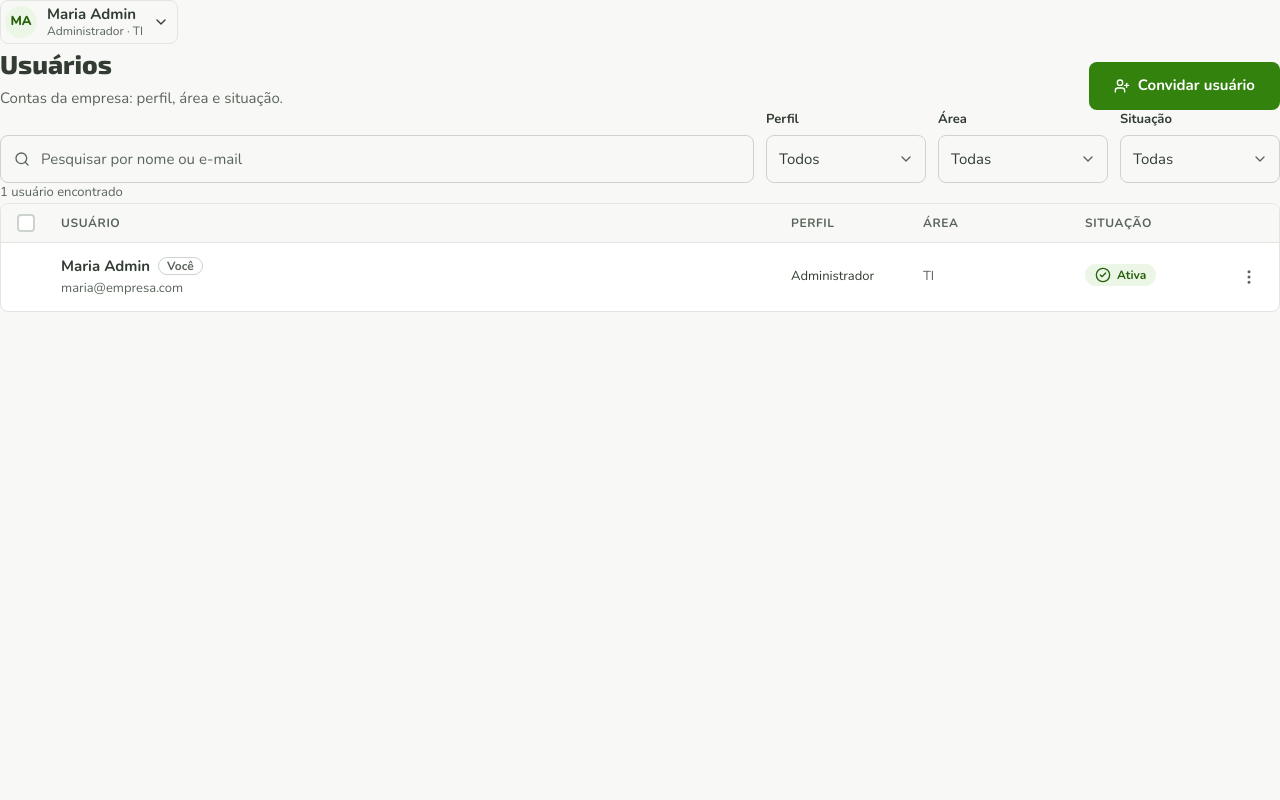
Test case: editing the own account › updates the name shown in the header
The image size is (1280, 800).
Click the button named "Ações de Maria Admin": (1249, 276) [1227,254,1271,298]
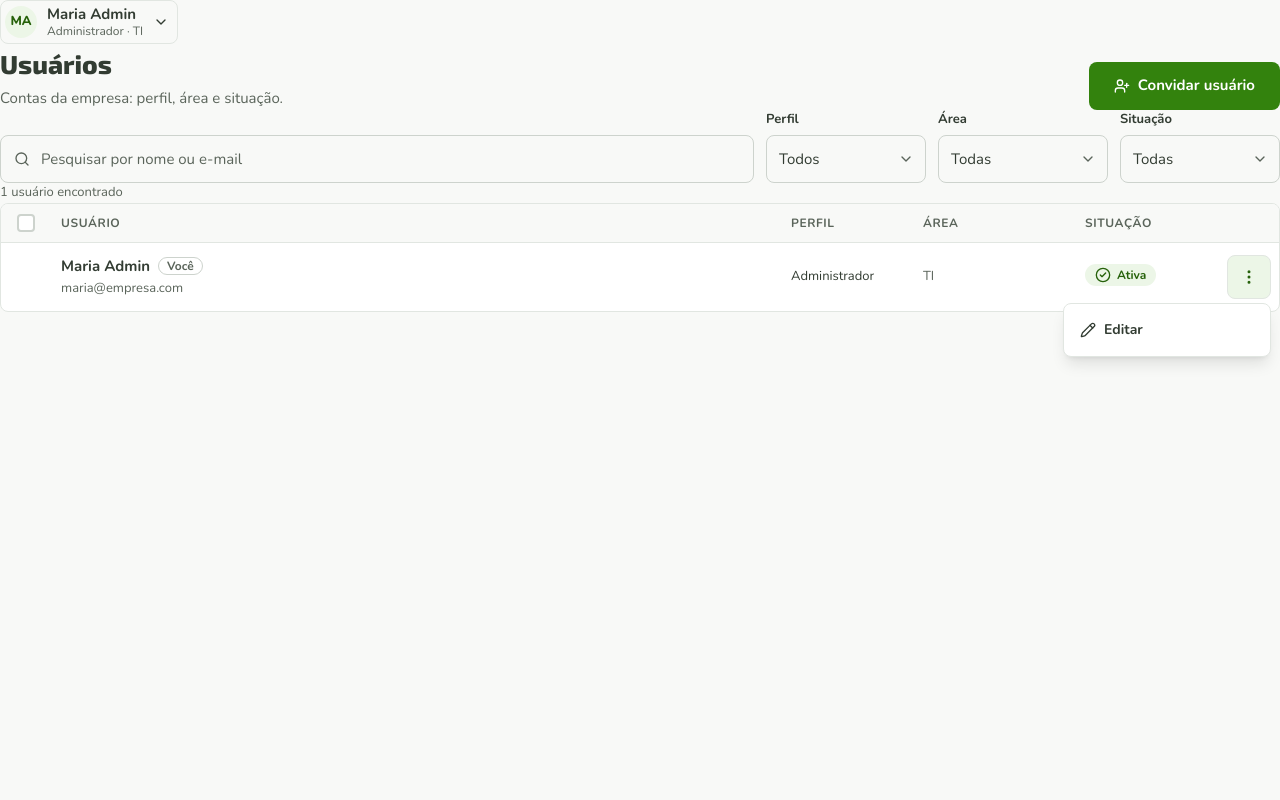
Click the menu item "Editar": (1111, 330) [1080,320,1143,339]
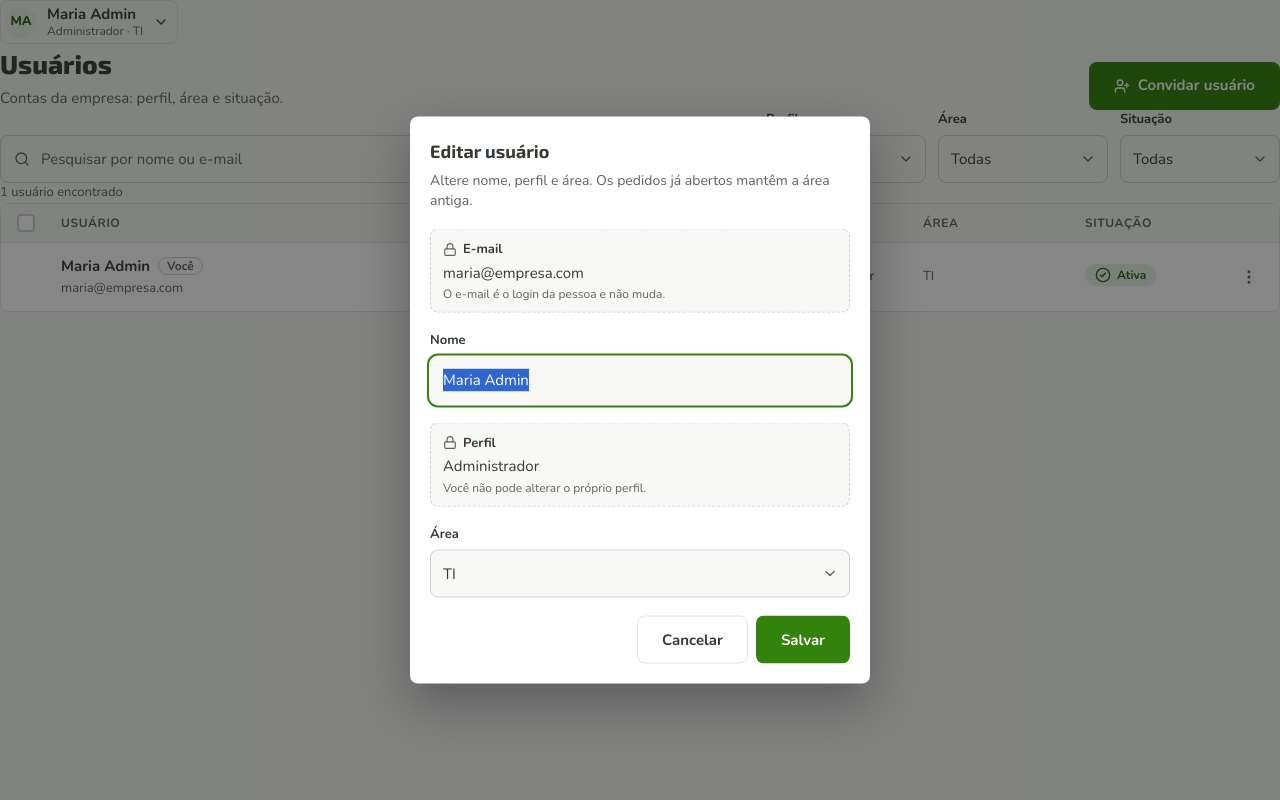
Replace the text in the field labelled "Nome" with "Maria Souza": (640, 380) [430,356,850,404]
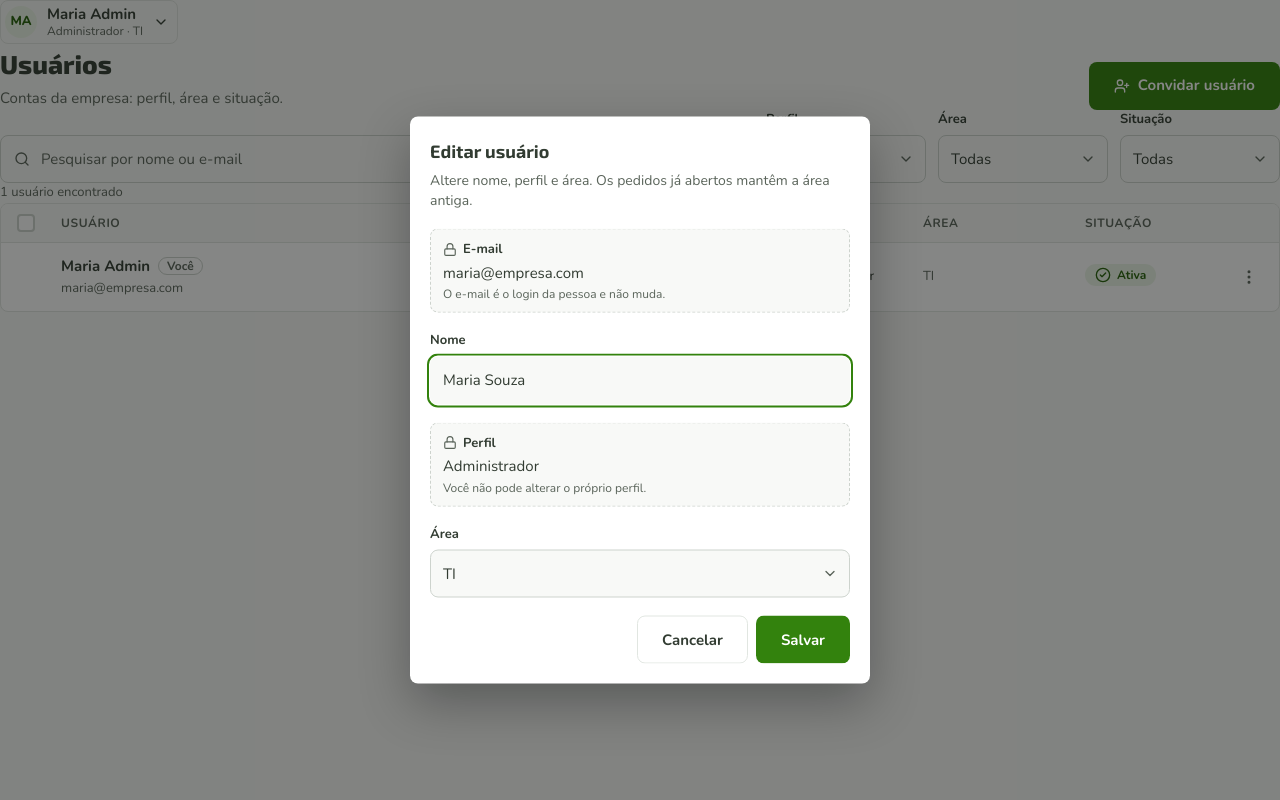
Click the button "Salvar": (803, 640) [756,616,850,664]
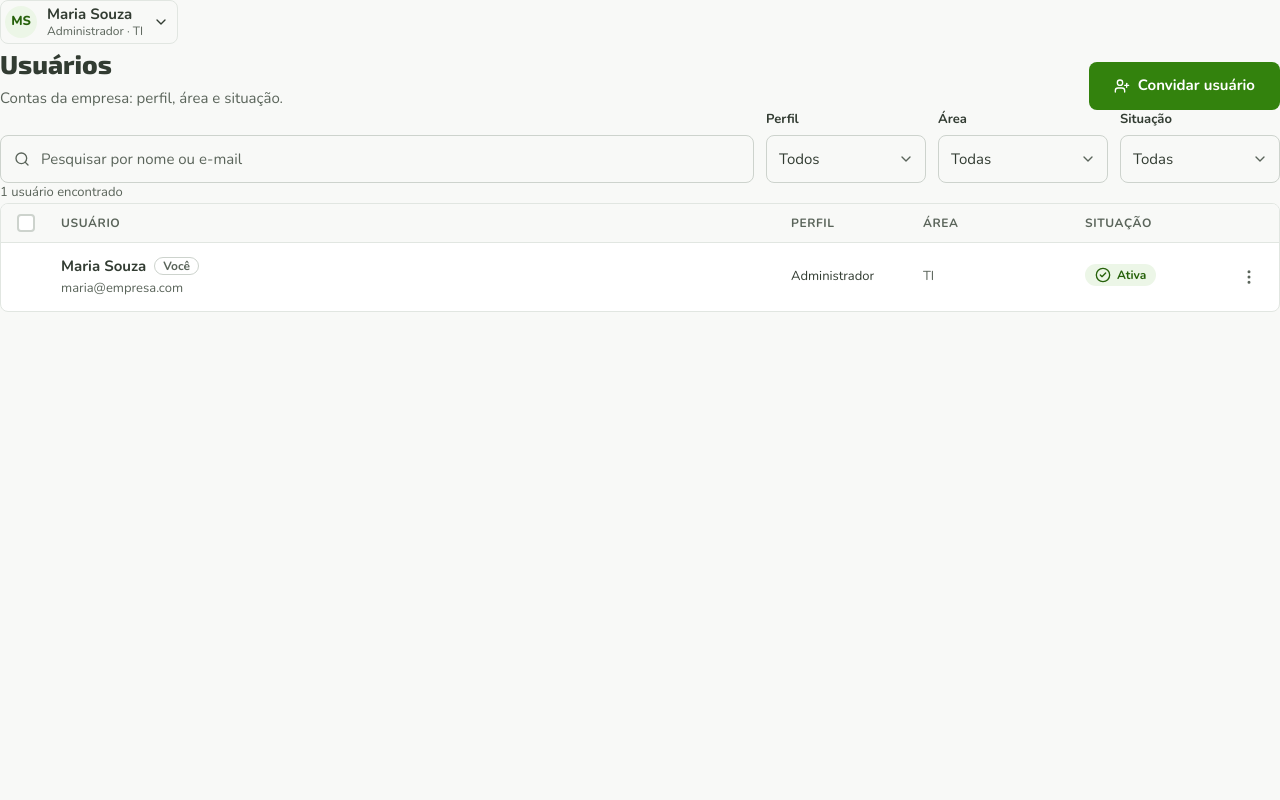
Now the button with aria-label "Menu da conta de Maria Souza" is shown, box [0,0,178,44]
